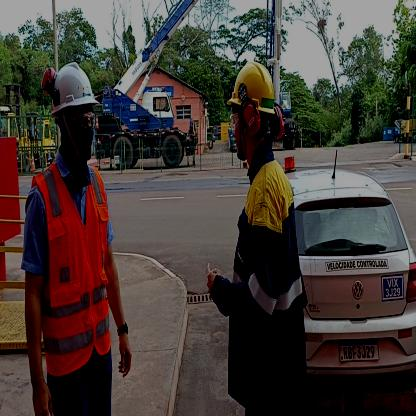Balaclava: (56, 107, 95, 177)
C_eletrica: (215, 165, 309, 401)
Capacete: (40, 53, 100, 104), (227, 60, 278, 111)
colete: (44, 169, 111, 355)
